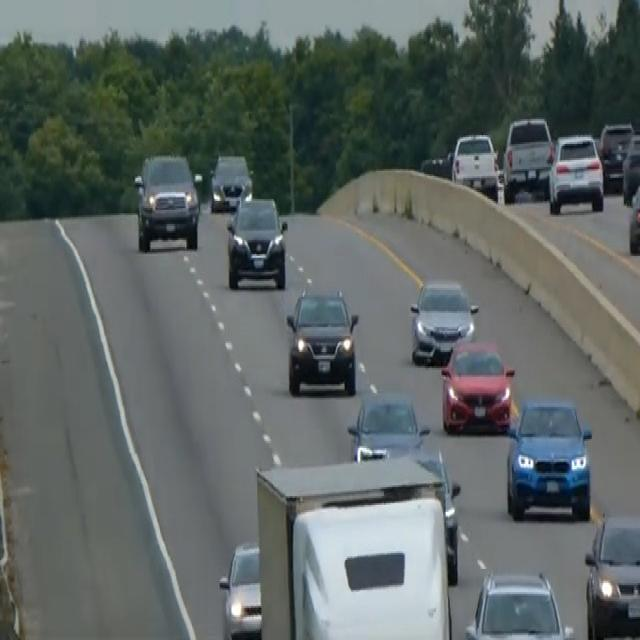car: (505, 395, 593, 521), (284, 286, 359, 396), (463, 567, 575, 638), (440, 336, 515, 434), (583, 510, 639, 638), (409, 276, 478, 364), (225, 194, 288, 290), (346, 388, 430, 460), (547, 130, 604, 213), (218, 539, 262, 638), (502, 114, 553, 199), (450, 130, 499, 196), (209, 151, 252, 212), (598, 119, 634, 190), (621, 130, 639, 202), (420, 148, 453, 180), (627, 174, 639, 256)
jeep: (132, 150, 202, 252)
lorry: (254, 454, 455, 638)
